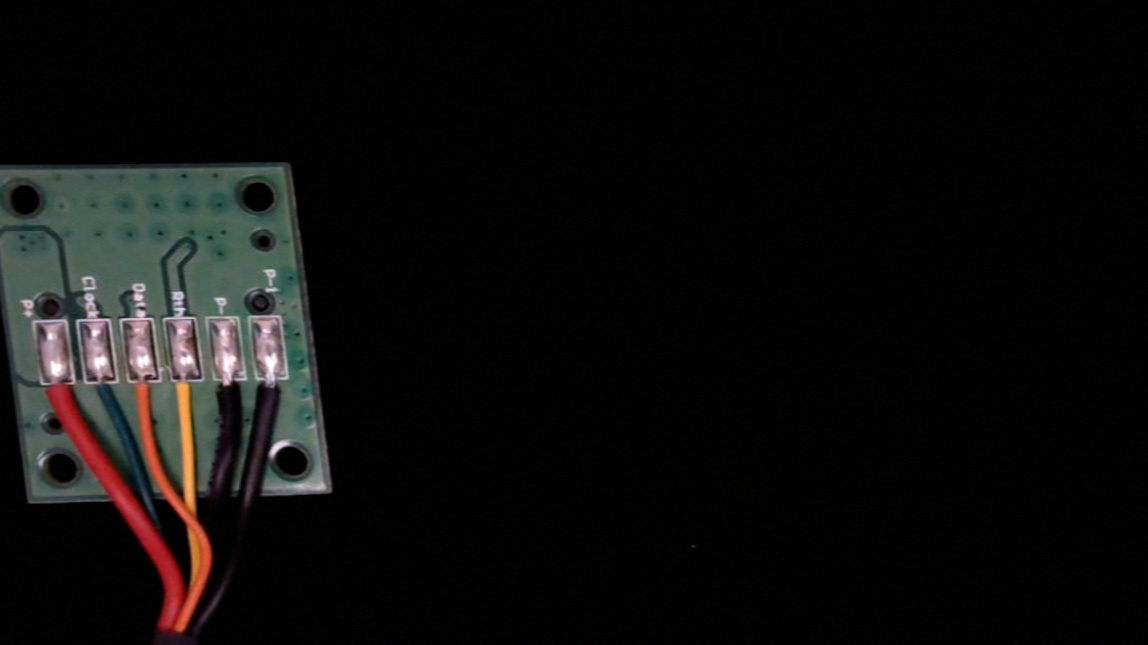Black: (211, 368, 252, 437)
Black1: (255, 368, 297, 435)
Green: (82, 369, 128, 439)
Orange: (127, 369, 171, 441)
Red: (39, 372, 84, 442)
Yellow: (166, 370, 212, 443)
